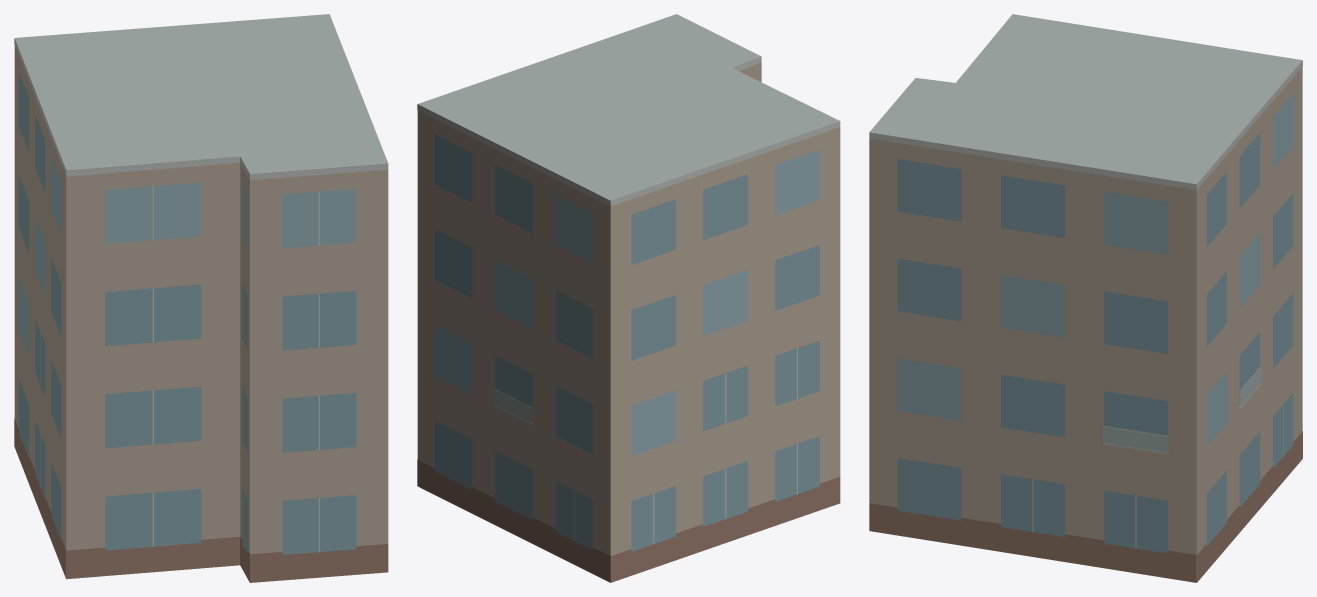
The model's file is survey-upis-33023587.glb.
3 views of the same model, side by side, from view 1: azimuth 30°, elevation 25°; view 2: azimuth 150°, elevation 25°; view 3: azimuth 270°, elevation 25° (orthographic). The views are drawn at different scales.
Parts seen in each view (by area): view 1: survey-upis-33023587.tmp; view 2: survey-upis-33023587.tmp; view 3: survey-upis-33023587.tmp.
Part boxes in pixels (x1,y1,x2,y2): survey-upis-33023587.tmp: (14,14,388,582); survey-upis-33023587.tmp: (417,14,840,582); survey-upis-33023587.tmp: (869,14,1302,582).
Size of the model in its own units: 14.73 by 16.07 by 15.85.
